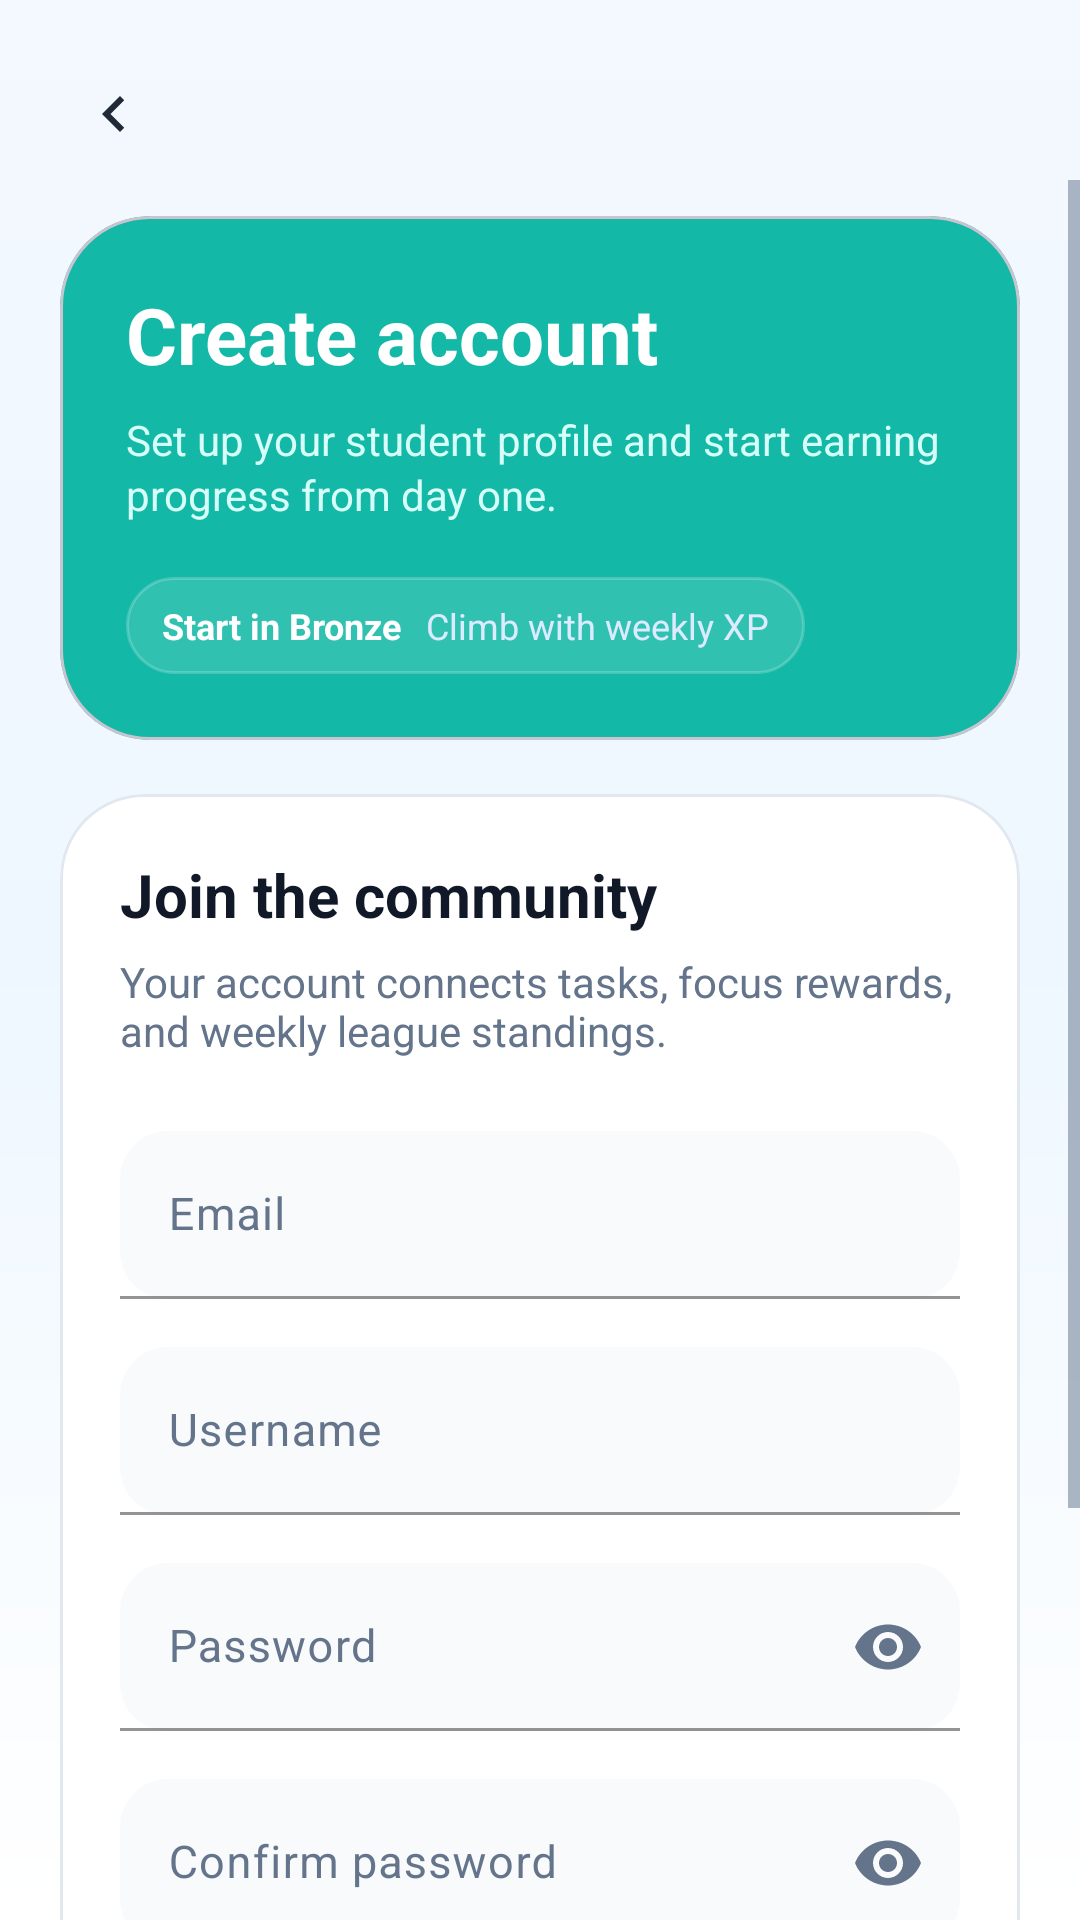

Locate icon controls on the screen. Image size 1080w x 1920h, boxes as (x1, y1, x2, y2).
Back: (102, 96, 124, 132)
